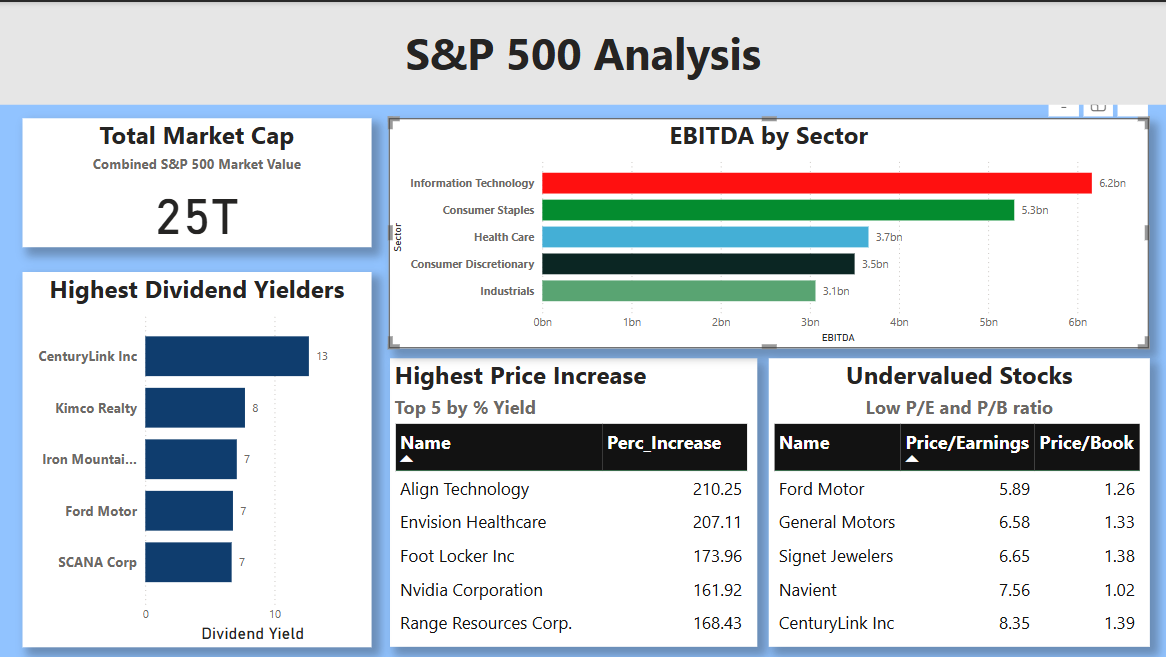

The page's visual inventory and layout, read from the dashboard file:
{"tool":"powerbi","page":{"name":"Page 1","canvas":[1280,720],"ordinal":0},"visuals":[{"type":"card","title":"Total Market Cap","fields":{"Values":["Sum(financials for sql and power bi - financials.Market Cap)"]},"box":[24.7,127.6,382.8,141.3],"z":0},{"type":"tableEx","title":"Highest Price Increase","fields":{"Values":["financials for sql and power bi - financials.Name","financials for sql and power bi - financials.Perc_Increase"]},"box":[428.1,391.1,403.4,317],"z":1000},{"type":"barChart","title":"EBITDA by Sector","fields":{"Category":["financials.Sector"],"Y":["Avg(financials.EBITDA)"]},"box":[426.8,127.6,834.3,252.5],"z":2000},{"type":"tableEx","title":"Undervalued Stocks","fields":{"Values":["financials.Name","financials.Price/Earnings","financials.Price/Book"]},"box":[843.9,391.1,418.5,317],"z":3000},{"type":"clusteredBarChart","title":"Highest Dividend Yielders","fields":{"Category":["financials.Name"],"Y":["Sum(financials.Dividend Yield)"]},"box":[24.7,296.4,382.8,411.7],"z":4000},{"type":"textbox","box":[0,0,1280.3,112.5],"z":5000}]}

Visuals, with their boxes in screenshot pixels (x1, y1, x2, y2), scaled from the page's 1280x720 canvas onto the 1166x657 screenshot:
"Total Market Cap" card: <bbox>23, 116, 371, 245</bbox>
"Highest Price Increase" tableEx: <bbox>390, 357, 757, 646</bbox>
"EBITDA by Sector" barChart: <bbox>389, 116, 1149, 347</bbox>
"Undervalued Stocks" tableEx: <bbox>769, 357, 1150, 646</bbox>
"Highest Dividend Yielders" clusteredBarChart: <bbox>23, 270, 371, 646</bbox>
textbox: <bbox>0, 0, 1165, 103</bbox>
